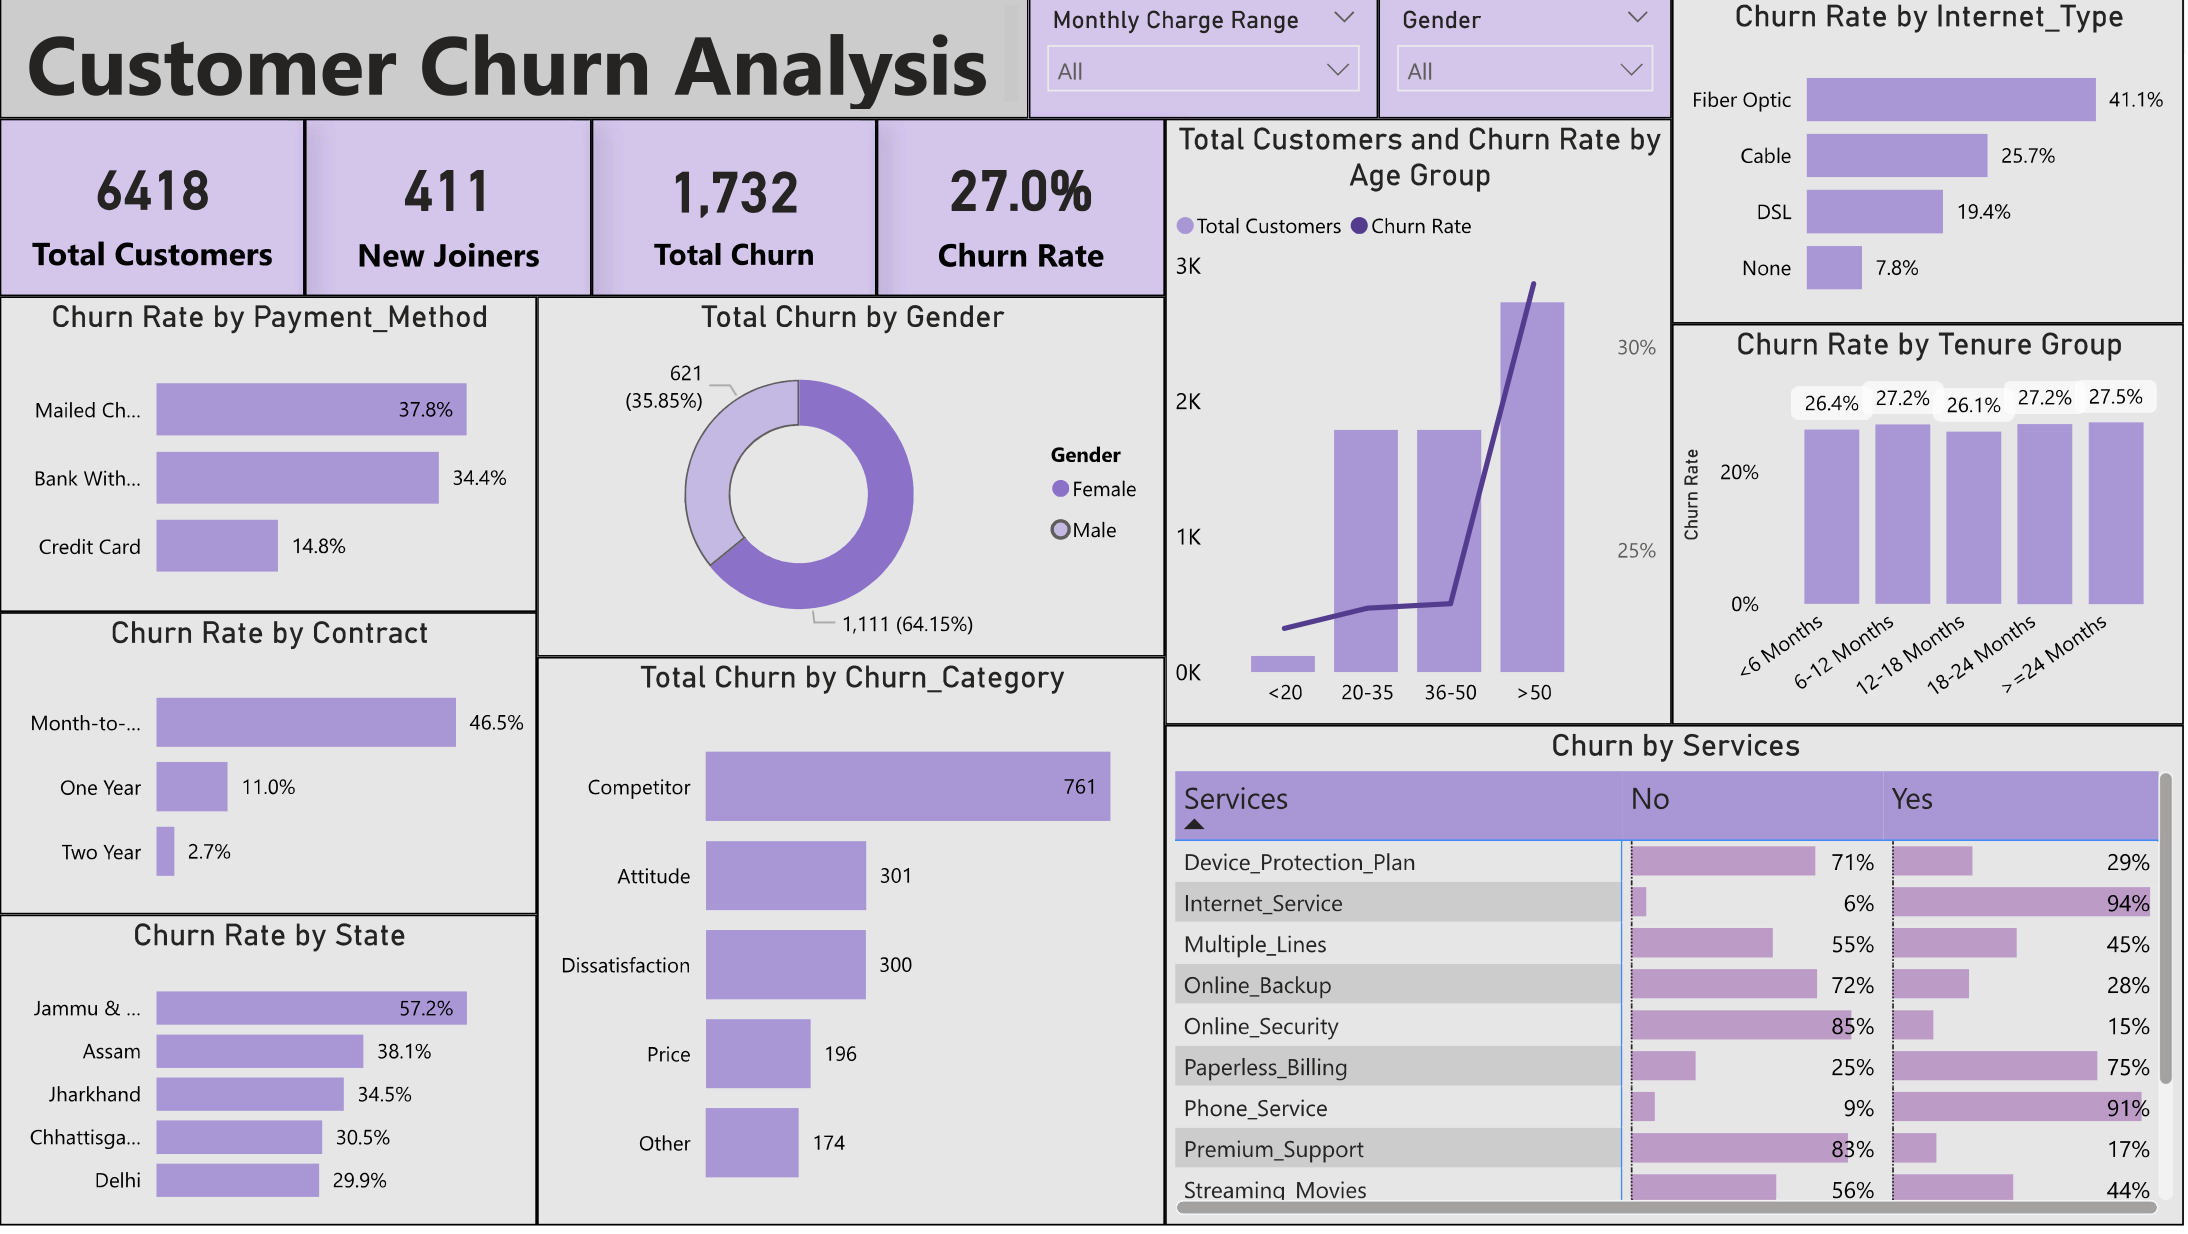

The dashboard page shown, as its layout file describes it:
{"tool":"powerbi","page":{"name":"Churn Summary","canvas":[1280,720],"ordinal":0},"visuals":[{"type":"card","fields":{"Values":["tbl_measures.Total Customers"]},"box":[0,72.4,178.8,103.5],"z":0},{"type":"card","fields":{"Values":["tbl_measures.New Joiners"]},"box":[178.8,72.4,168.5,103.5],"z":1000},{"type":"card","fields":{"Values":["tbl_measures.Total Churn"]},"box":[347.3,72.4,167,103.5],"z":2000},{"type":"card","fields":{"Values":["tbl_measures.Churn Rate"]},"box":[514.4,72.4,168.5,103.5],"z":3000},{"type":"donutChart","fields":{"Category":["prod_Churn.Gender"],"Y":["tbl_measures.Total Churn"]},"box":[314.8,175.9,368,211.4],"z":4000},{"type":"lineStackedColumnComboChart","fields":{"Category":["mapping_AgeGrp.Age Group"],"Y":["tbl_measures.Total Customers"],"Y2":["tbl_measures.Churn Rate"]},"box":[682.9,72.4,297.1,354.7],"z":5000},{"type":"clusteredBarChart","fields":{"Category":["prod_Churn.Payment_Method"],"Y":["tbl_measures.Churn Rate"]},"box":[0,175.9,314.8,184.8],"z":6000},{"type":"clusteredBarChart","fields":{"Category":["prod_Churn.Contract"],"Y":["tbl_measures.Churn Rate"]},"box":[0,360.6,314.8,177.4],"z":7000},{"type":"textbox","box":[0,0,603,72.4],"z":8000},{"type":"lineStackedColumnComboChart","fields":{"Category":["mapping_TenureGrp.Tenure Group "],"Y":["tbl_measures.Churn Rate"]},"box":[980,192.1,300,235],"z":9000},{"type":"slicer","fields":{"Values":["prod_Churn.Monthly Charge Range"]},"box":[603,0,205.5,72.4],"z":10000},{"type":"slicer","fields":{"Values":["prod_Churn.Gender"]},"box":[808.5,0,171.5,72.4],"z":11000},{"type":"clusteredBarChart","fields":{"Category":["prod_Churn.State"],"Y":["tbl_measures.Churn Rate"]},"box":[0,538,314.8,181.8],"z":12000},{"type":"clusteredBarChart","fields":{"Category":["prod_Churn.Churn_Category"],"Y":["tbl_measures.Total Churn"]},"box":[314.8,387.3,368,332.6],"z":13000},{"type":"clusteredBarChart","fields":{"Category":["prod_Churn.Internet_Type"],"Y":["tbl_measures.Churn Rate"]},"box":[980,0,300,192.1],"z":14000},{"type":"pivotTable","title":"Churn by Services","fields":{"Rows":["prod_Services.Services"],"Columns":["prod_Services.Status"],"Values":["Sum(prod_Services. Churn Status)"]},"box":[682.9,427.2,597.1,292.7],"z":15000}]}

Visuals, with their boxes in screenshot pixels (x1, y1, x2, y2), scaled from the page's 1280x720 canvas onto the 2188x1234 screenshot:
card - tbl_measures.Total Customers: bbox=(0, 124, 306, 301)
card - tbl_measures.New Joiners: bbox=(306, 124, 594, 301)
card - tbl_measures.Total Churn: bbox=(594, 124, 879, 301)
card - tbl_measures.Churn Rate: bbox=(879, 124, 1167, 301)
donutChart - prod_Churn.Gender x tbl_measures.Total Churn: bbox=(538, 301, 1167, 664)
lineStackedColumnComboChart - mapping_AgeGrp.Age Group x tbl_measures.Total Customers: bbox=(1167, 124, 1675, 732)
clusteredBarChart - prod_Churn.Payment_Method x tbl_measures.Churn Rate: bbox=(0, 301, 538, 618)
clusteredBarChart - prod_Churn.Contract x tbl_measures.Churn Rate: bbox=(0, 618, 538, 922)
textbox: bbox=(0, 0, 1031, 124)
lineStackedColumnComboChart - mapping_TenureGrp.Tenure Group  x tbl_measures.Churn Rate: bbox=(1675, 329, 2187, 732)
slicer - prod_Churn.Monthly Charge Range: bbox=(1031, 0, 1382, 124)
slicer - prod_Churn.Gender: bbox=(1382, 0, 1675, 124)
clusteredBarChart - prod_Churn.State x tbl_measures.Churn Rate: bbox=(0, 922, 538, 1233)
clusteredBarChart - prod_Churn.Churn_Category x tbl_measures.Total Churn: bbox=(538, 664, 1167, 1233)
clusteredBarChart - prod_Churn.Internet_Type x tbl_measures.Churn Rate: bbox=(1675, 0, 2187, 329)
"Churn by Services" pivotTable: bbox=(1167, 732, 2187, 1233)
